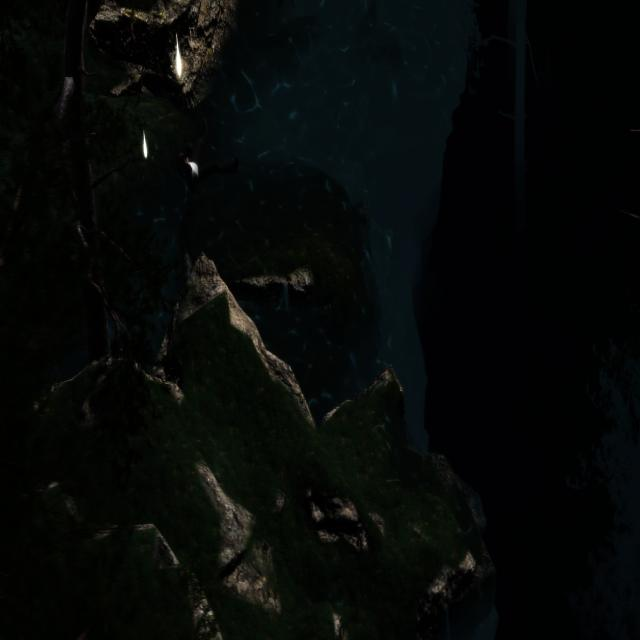Human: (170, 114, 244, 199)
